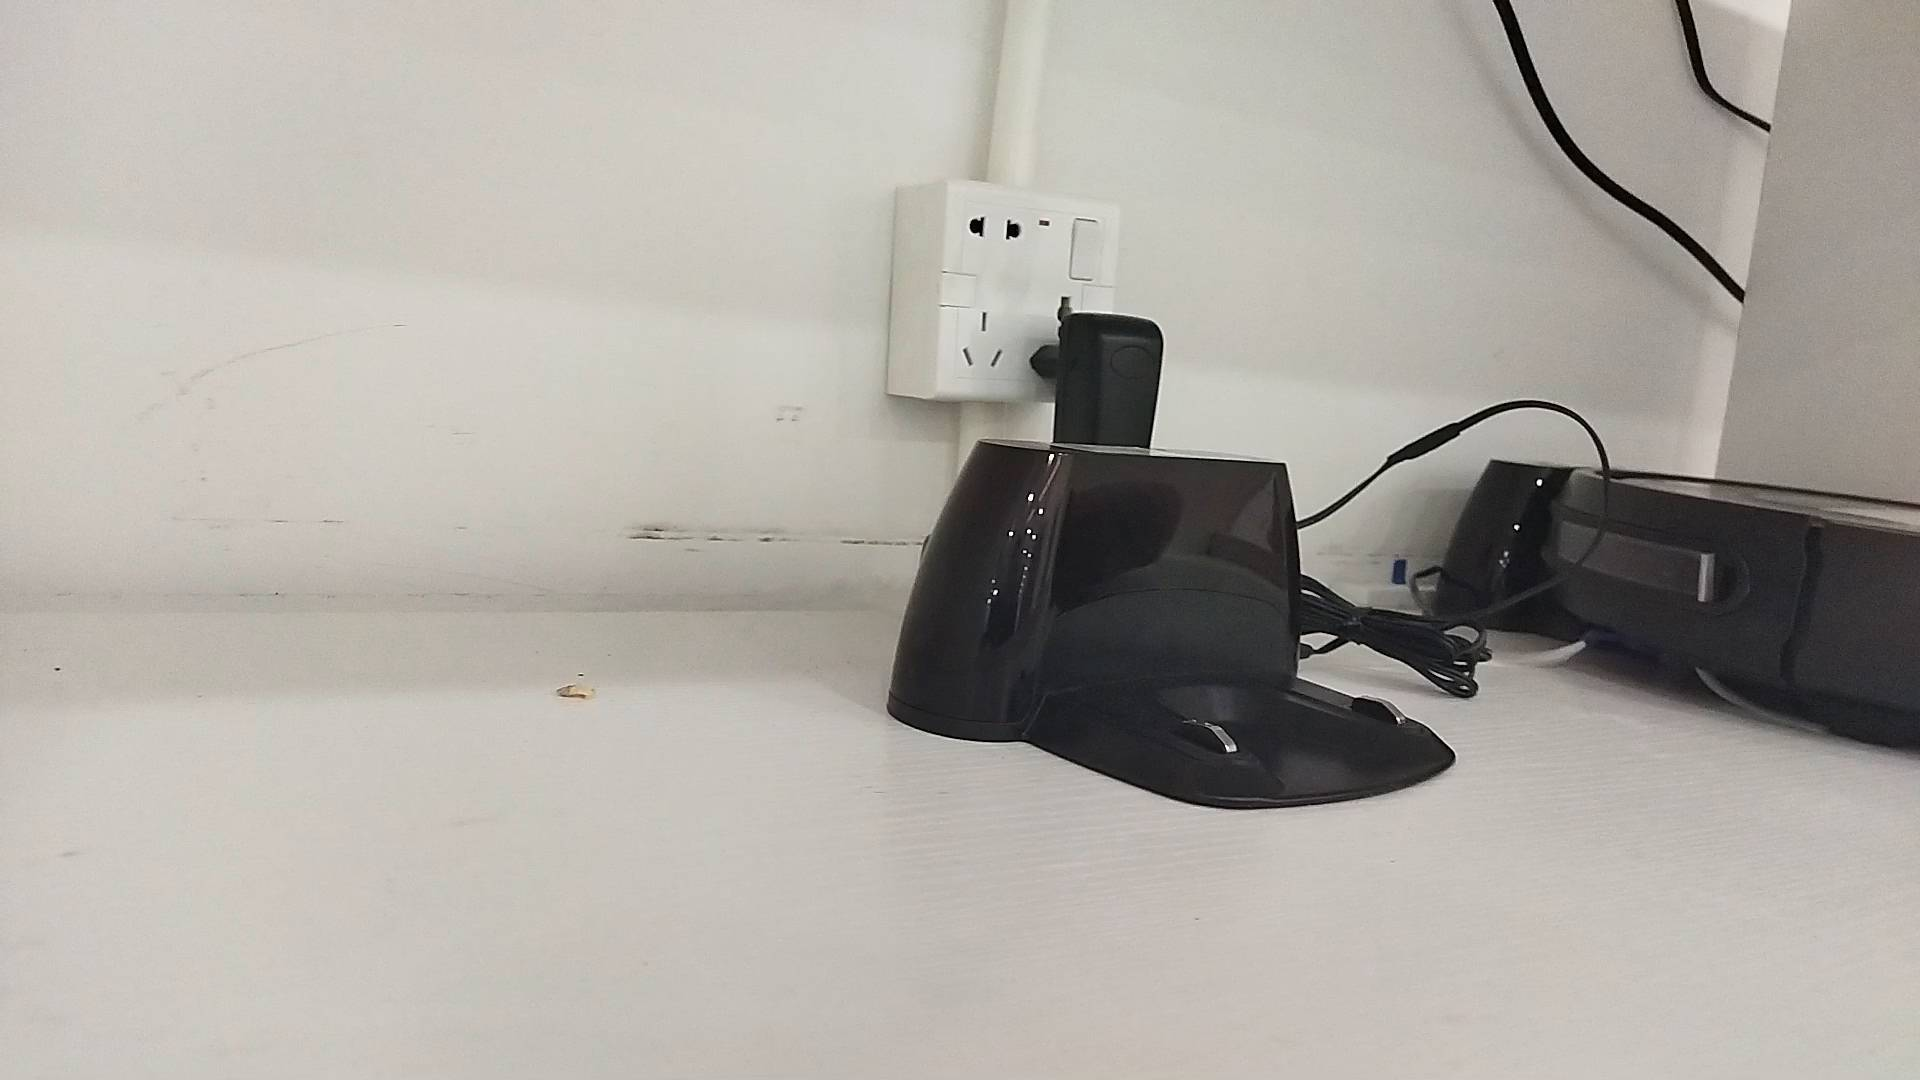recharge seat: (885, 438, 1457, 810)
